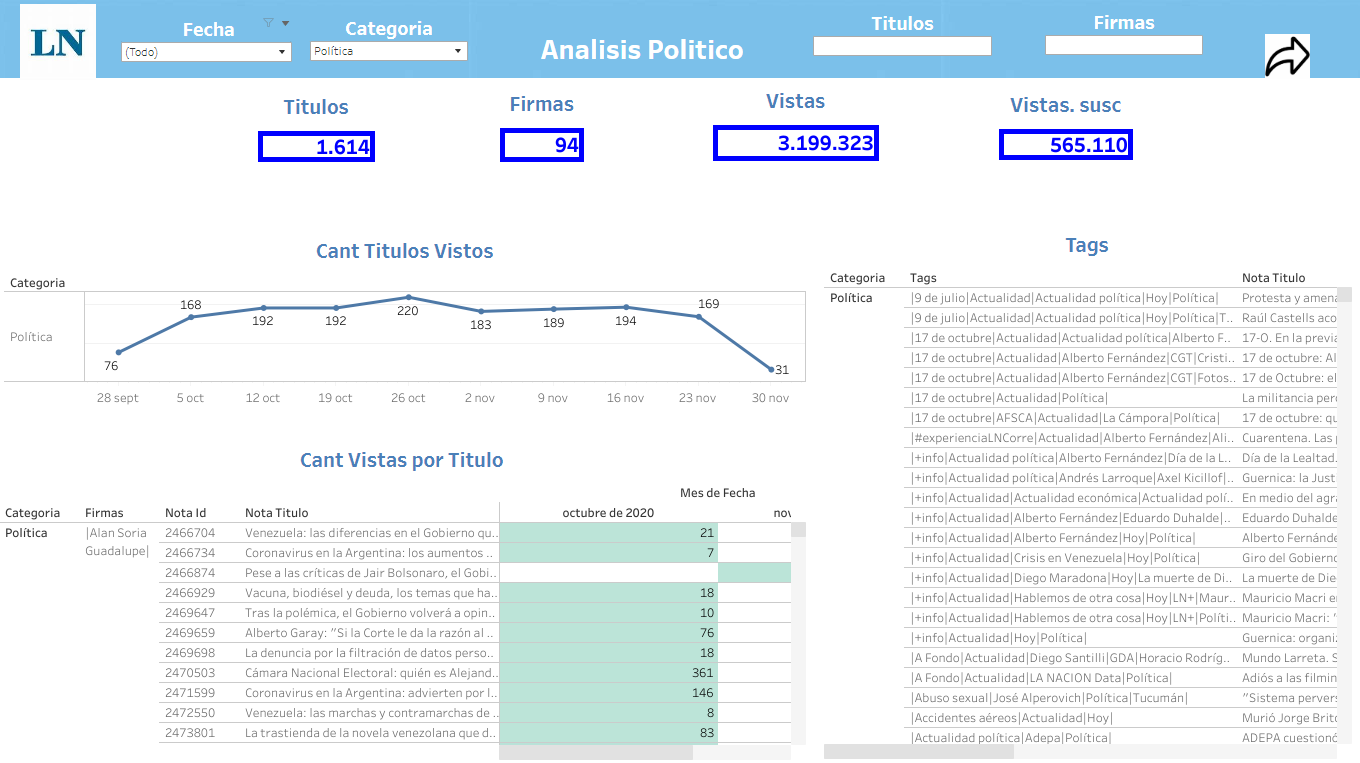

This screenshot's page, from the dashboard's own definition file:
{"tool":"tableau","page":{"name":"Analisis Politico","canvas":[1366,768],"ordinal":1},"visuals":[{"type":"image","param":"Image/OIP (2).jpg","box":[3,2,480,80]},{"type":"image","param":"Image/OIP (2).jpg","box":[475,2,627,80]},{"type":"image","param":"Image/OIP (2).jpg","box":[948,2,418,80]},{"type":"image","param":"Image/OIP (3).jpg","box":[26,8,89,76]},{"type":"filter","title":"Hoja 13 (7)","param":"[federated.0rovlj60uc0qtt13ey1p9048ws23].[none:Nota Titulo:nk]","box":[818,13,181,92]},{"type":"filter","title":"Hoja 16","param":"[federated.0rovlj60uc0qtt13ey1p9048ws23].[none:Categoria:nk]","box":[315,18,160,48]},{"type":"filter","title":"Hoja 13","param":"[federated.0rovlj60uc0qtt13ey1p9048ws23].[md:Calculation_387309625131315221:ok]","box":[126,19,173,49]},{"type":"text","box":[457,33,382,37]},{"type":"dashboard-object","box":[1253,38,81,45]},{"type":"worksheet","title":"Hoja 17","mark":"Automatic","box":[717,84,170,83]},{"type":"worksheet","title":"Hoja 16","mark":"Automatic","box":[504,87,88,81]},{"type":"worksheet","title":"Hoja 17 (2)","mark":"Automatic","box":[1003,88,138,79]},{"type":"worksheet","title":"Hoja 15","mark":"Automatic","box":[262,90,121,78]},{"type":"worksheet","title":"Hoja 14","mark":"Automatic","rows":["Categoria","Tags","Nota Titulo","Firmas"],"box":[830,228,528,535]},{"type":"worksheet","title":"Hoja 13","mark":"Automatic","rows":["Categoria","Nota Titulo (copia)_387309625074966542"],"cols":["Calculation_387309625131315221"],"box":[10,234,802,182]},{"type":"worksheet","title":"Hoja 13 (7)","mark":"Square","rows":["Categoria","Firmas","Nota Id","Nota Titulo"],"cols":["Calculation_387309625131315221"],"box":[5,443,807,321]}]}

Visuals, with their boxes in screenshot pixels (x1, y1, x2, y2), scaled from the page's 1366x768 canvas onto the 1360x763 screenshot:
image: detection(3, 2, 481, 81)
image: detection(473, 2, 1097, 81)
image: detection(944, 2, 1359, 81)
image: detection(26, 8, 114, 83)
"Hoja 13 (7)" filter: detection(814, 13, 995, 104)
"Hoja 16" filter: detection(314, 18, 473, 66)
"Hoja 13" filter: detection(125, 19, 298, 68)
text: detection(455, 33, 835, 70)
dashboard-object: detection(1247, 38, 1328, 82)
"Hoja 17" worksheet: detection(714, 83, 883, 166)
"Hoja 16" worksheet: detection(502, 86, 589, 167)
"Hoja 17 (2)" worksheet: detection(999, 87, 1136, 166)
"Hoja 15" worksheet: detection(261, 89, 381, 167)
"Hoja 14" worksheet: detection(826, 227, 1352, 758)
"Hoja 13" worksheet: detection(10, 232, 808, 413)
"Hoja 13 (7)" worksheet (Square marks): detection(5, 440, 808, 759)
